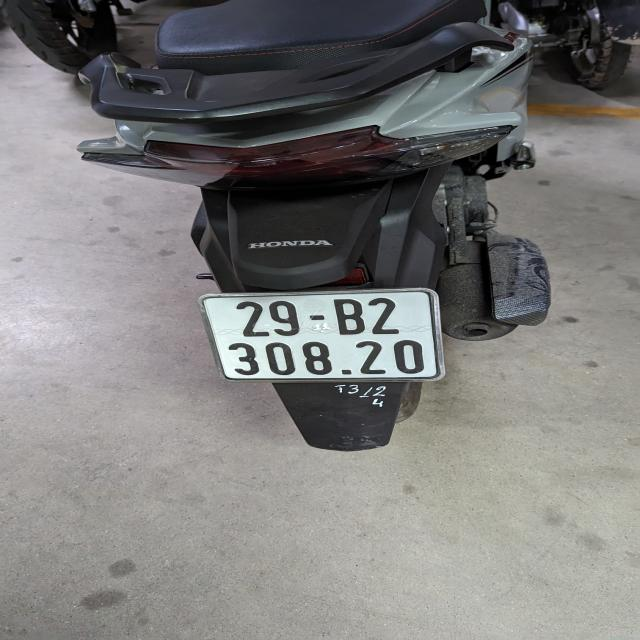License: (197, 287, 445, 383)
